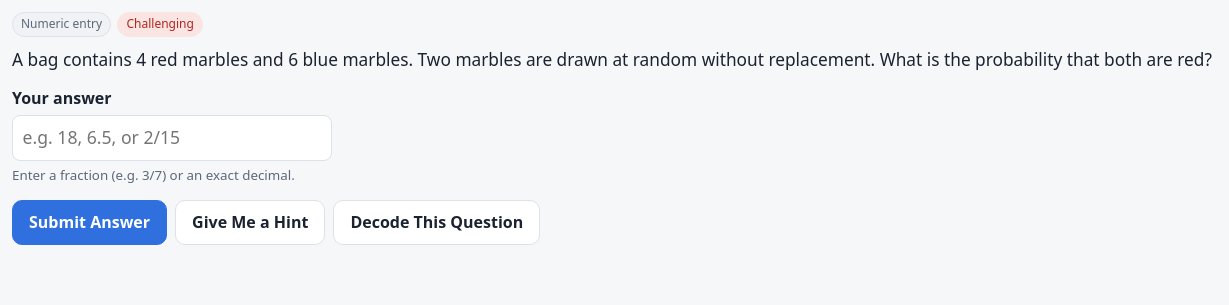
Test: QuestionSolver › rejects unparseable numeric input without grading it
Type "two fifteenths" into the field labelled "Your answer" at (172, 138), box x1=12 y1=115 x2=332 y2=161
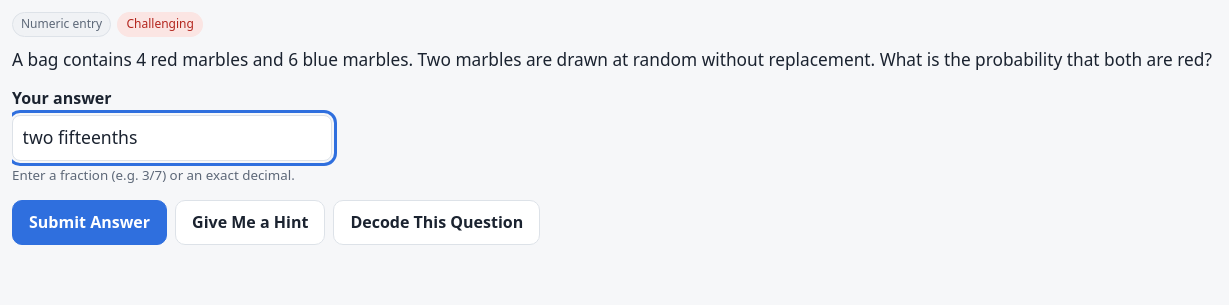
Click the button "Submit Answer" at (90, 223), box x1=12 y1=200 x2=167 y2=245
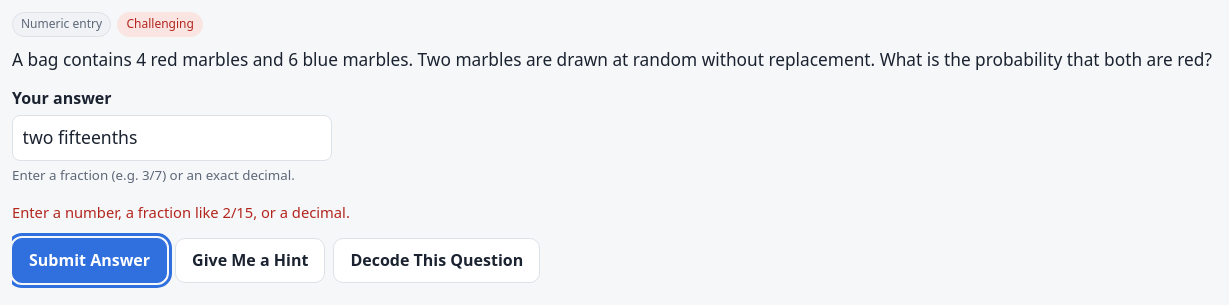
Now the text "Enter a number, a fraction like 2/15, or a decimal." is shown, box x1=12 y1=202 x2=350 y2=222
